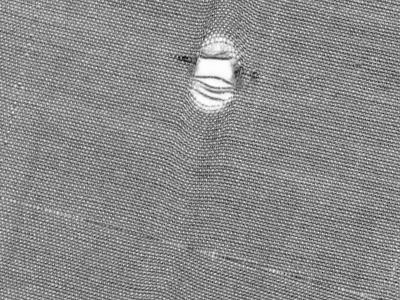hole: (184, 34, 246, 121)
